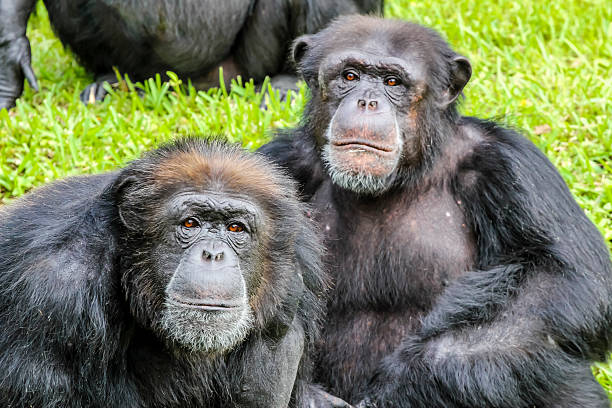chimpanzee: (94, 123, 318, 388), (285, 8, 479, 212)
